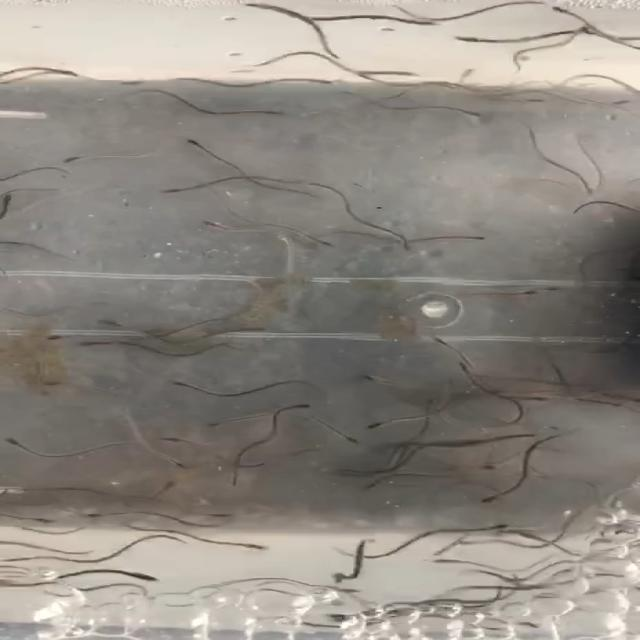active_glass_eel: (349, 367, 397, 390), (382, 232, 424, 254), (73, 504, 128, 520), (1, 511, 58, 526), (181, 508, 239, 522), (512, 0, 561, 16), (222, 538, 275, 552), (443, 354, 480, 374), (576, 180, 616, 198), (355, 473, 402, 488), (402, 78, 456, 90), (512, 89, 548, 107), (48, 149, 82, 167), (193, 215, 229, 232), (37, 66, 80, 80), (448, 65, 488, 80), (506, 528, 541, 545), (569, 21, 602, 39), (111, 572, 165, 583), (382, 63, 419, 79), (323, 571, 357, 588), (471, 486, 499, 506), (476, 518, 516, 532), (444, 538, 490, 550), (405, 556, 451, 568), (602, 397, 631, 416), (154, 182, 187, 198), (359, 416, 385, 436), (458, 230, 492, 245), (243, 0, 282, 13), (443, 33, 485, 45), (538, 3, 579, 15), (591, 94, 631, 106), (41, 331, 81, 343), (0, 554, 34, 568), (1, 434, 40, 446), (74, 337, 105, 352), (152, 482, 184, 496), (40, 379, 65, 396), (311, 237, 341, 251), (451, 105, 489, 116), (264, 106, 296, 119), (164, 379, 198, 391), (164, 456, 193, 470), (516, 288, 556, 298), (109, 75, 142, 87), (406, 18, 445, 28), (338, 432, 364, 447), (299, 78, 338, 87), (292, 398, 315, 413), (202, 417, 227, 430), (182, 136, 209, 148)
